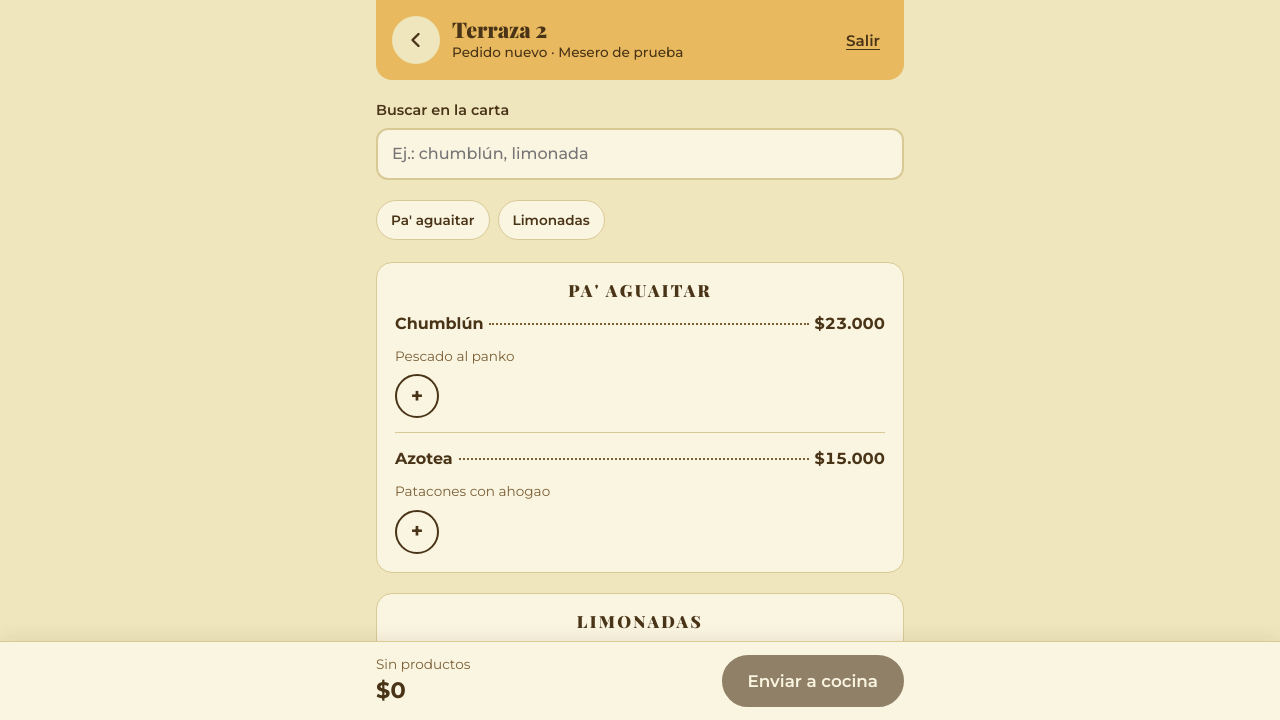
Tomar pedido (HU04) › quitar hasta cero saca el producto del pedido
Click the button named "Agregar Chumblún" at (417, 396), box [395,374,439,418]
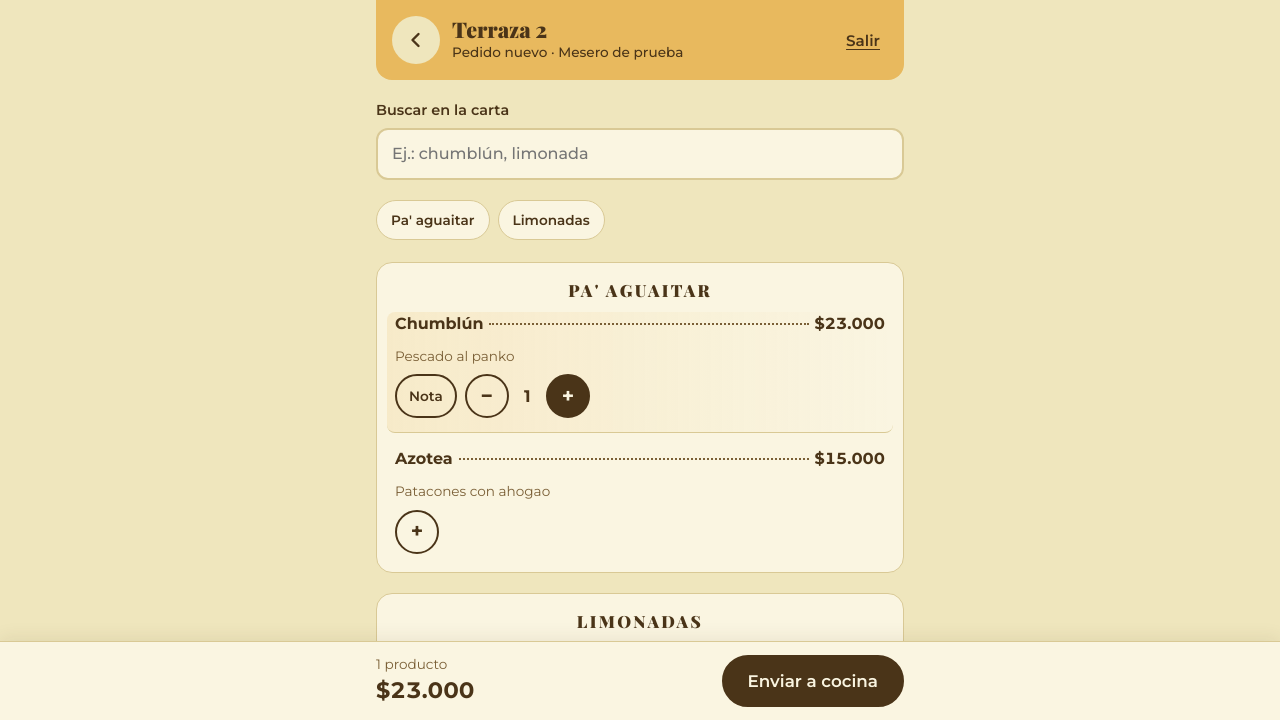
Click the button named "Quitar uno de Chumblún" at (487, 396), box [465,374,509,418]
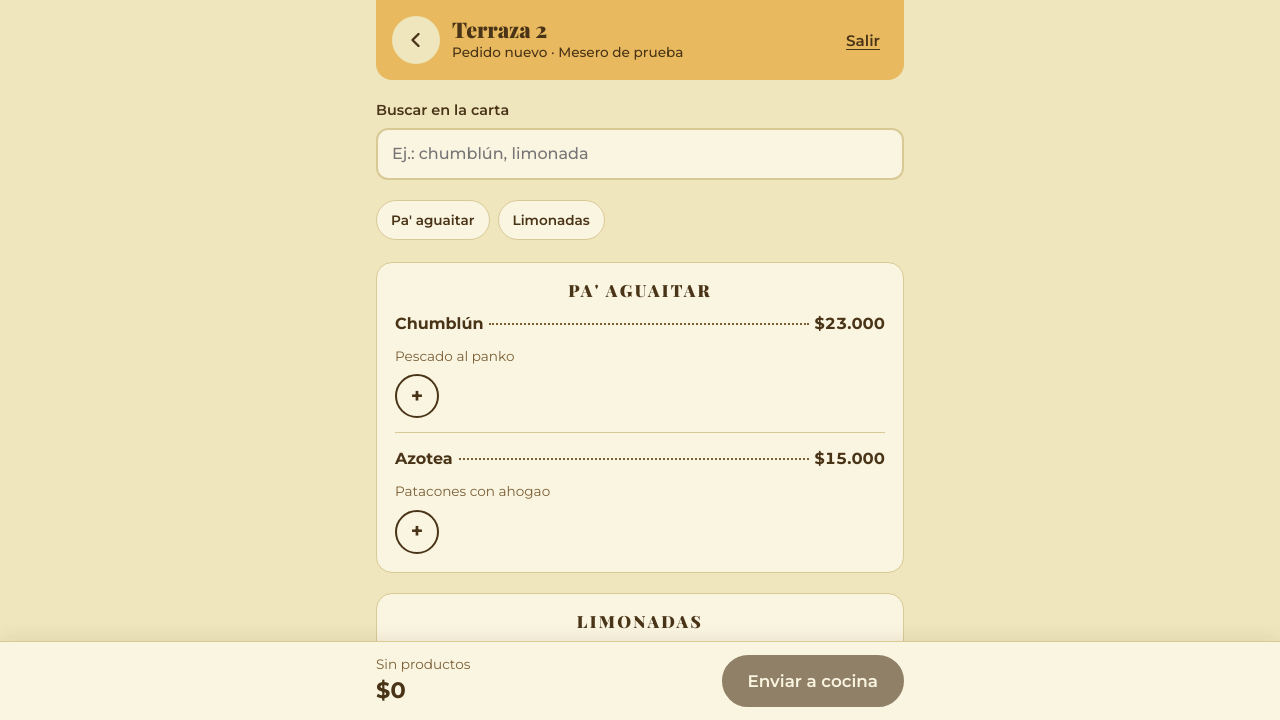
Now the text "Sin productos" is shown, box [376,654,470,674]
Now the button "Enviar a cocina" is disabled, box [722,655,904,707]
